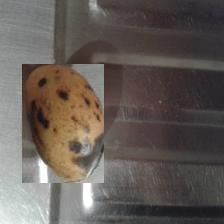Mango Semirotten: (22, 64, 104, 183)
